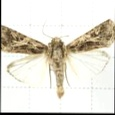Spodoptera litura: (0, 16, 114, 101)
